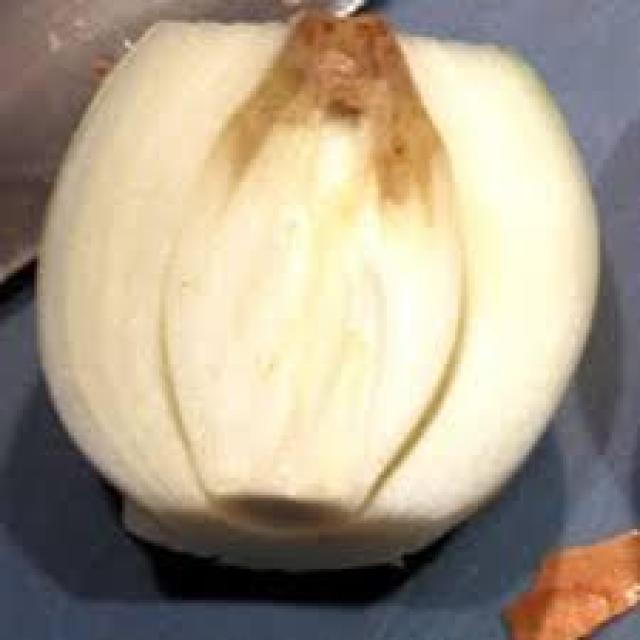Onion: (31, 17, 603, 580), (498, 529, 640, 640)
